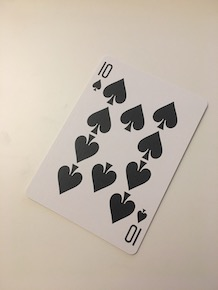TenOfSpades: (24, 52, 209, 257)
